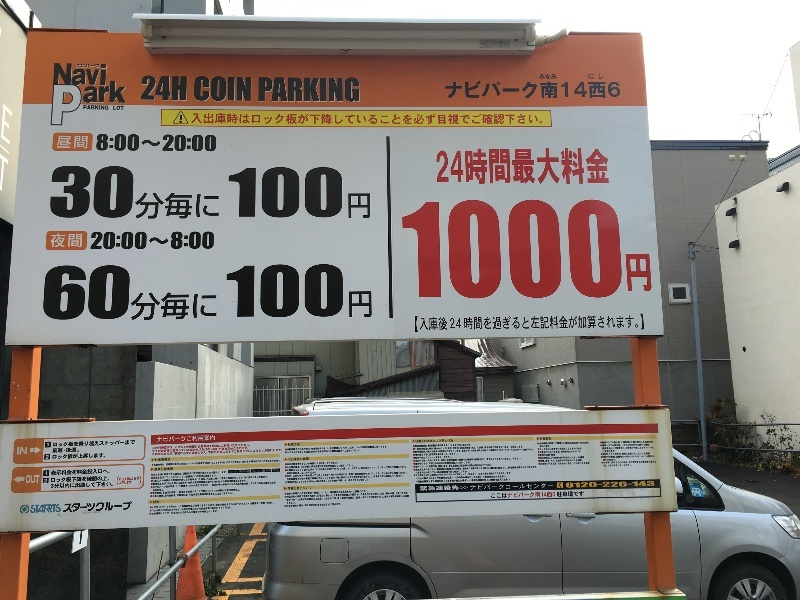text: (401, 199, 416, 301), (417, 199, 432, 301), (433, 199, 448, 301), (449, 199, 464, 301), (465, 199, 480, 301), (481, 199, 496, 301), (497, 199, 512, 301), (513, 199, 528, 301), (529, 199, 544, 301), (545, 199, 560, 301), (561, 199, 576, 301), (577, 199, 592, 301), (593, 199, 608, 301), (609, 199, 624, 301), (625, 199, 640, 301), (1, 102, 16, 193), (641, 199, 653, 301), (49, 262, 64, 325), (65, 262, 80, 325), (81, 262, 96, 325), (97, 262, 112, 325), (113, 262, 128, 325), (129, 262, 144, 325), (145, 262, 160, 325), (161, 262, 176, 325), (177, 262, 192, 325), (193, 262, 208, 325), (209, 262, 224, 325), (225, 262, 240, 325), (241, 262, 256, 325), (257, 262, 272, 325), (273, 262, 288, 325), (289, 262, 304, 325), (305, 262, 320, 325), (321, 262, 336, 325), (337, 262, 352, 325), (353, 262, 368, 325), (113, 80, 129, 130), (65, 166, 80, 219), (81, 166, 96, 219), (97, 166, 112, 219), (113, 166, 128, 219), (129, 166, 144, 219), (145, 166, 160, 219), (161, 166, 176, 219), (177, 166, 192, 219), (193, 166, 208, 219), (209, 166, 224, 219), (225, 166, 240, 219), (241, 166, 256, 219), (257, 166, 272, 219), (273, 166, 288, 219), (289, 166, 304, 219), (305, 166, 320, 219), (321, 166, 336, 219), (337, 166, 352, 219), (353, 166, 368, 219), (65, 80, 80, 130), (81, 80, 96, 130), (97, 80, 112, 130), (52, 166, 64, 219), (449, 146, 464, 186), (465, 146, 480, 186), (481, 146, 496, 186), (497, 146, 512, 186), (513, 146, 528, 186), (529, 146, 544, 186), (545, 146, 560, 186), (561, 146, 576, 186), (577, 146, 592, 186), (593, 146, 608, 186), (417, 443, 432, 483), (433, 443, 448, 483), (449, 443, 464, 483), (465, 443, 480, 483), (481, 443, 496, 483), (497, 443, 512, 483), (513, 443, 528, 483), (53, 80, 64, 130), (435, 146, 448, 186), (641, 441, 657, 467), (145, 75, 160, 102), (161, 75, 176, 102), (209, 76, 224, 103), (225, 76, 240, 103), (609, 441, 624, 467), (625, 441, 640, 467), (194, 76, 208, 103), (545, 442, 560, 466), (561, 442, 576, 466), (273, 78, 288, 102), (289, 78, 304, 102), (305, 78, 320, 102), (321, 78, 336, 102), (337, 78, 352, 102), (65, 64, 80, 87), (81, 64, 96, 87), (289, 461, 304, 484), (305, 461, 320, 484), (321, 461, 336, 484), (337, 461, 352, 484), (353, 461, 368, 484), (369, 461, 384, 484), (385, 461, 400, 484), (258, 78, 272, 102), (529, 443, 537, 483), (43, 262, 48, 325), (97, 133, 112, 153), (113, 133, 128, 153), (129, 133, 144, 153), (145, 133, 160, 153), (161, 133, 176, 153), (177, 133, 192, 153), (193, 133, 208, 153), (97, 231, 112, 251), (113, 231, 128, 251), (129, 231, 144, 251), (145, 231, 160, 251), (161, 231, 176, 251), (177, 231, 192, 251), (193, 231, 208, 251), (417, 313, 432, 333), (433, 313, 448, 333), (449, 313, 464, 333), (465, 313, 480, 333), (481, 313, 496, 333), (497, 313, 512, 333), (513, 313, 528, 333), (529, 313, 544, 333), (545, 313, 560, 333), (561, 313, 576, 333), (577, 313, 592, 333), (593, 313, 608, 333), (609, 313, 624, 333), (625, 313, 640, 333), (289, 488, 304, 508), (305, 488, 320, 508), (321, 488, 336, 508), (337, 488, 352, 508), (353, 488, 368, 508), (369, 488, 384, 508), (385, 488, 400, 508), (177, 75, 188, 102), (241, 76, 252, 103), (577, 442, 589, 466), (449, 81, 464, 100), (465, 81, 480, 100), (481, 81, 496, 100), (497, 81, 512, 100), (513, 81, 528, 100), (529, 81, 544, 100), (545, 81, 560, 100), (561, 81, 576, 100), (577, 81, 592, 100), (593, 81, 608, 100), (97, 64, 108, 87), (369, 262, 373, 325), (65, 233, 80, 249), (609, 81, 621, 100), (50, 233, 64, 249), (369, 166, 373, 219), (65, 136, 80, 150), (55, 64, 64, 87), (529, 113, 545, 125), (193, 113, 208, 125), (209, 113, 224, 125), (225, 113, 240, 125), (241, 113, 256, 125), (257, 113, 272, 125), (273, 113, 288, 125), (289, 113, 304, 125), (305, 113, 320, 125), (321, 113, 336, 125), (337, 113, 352, 125), (353, 113, 368, 125), (369, 113, 384, 125), (385, 113, 400, 125), (401, 113, 416, 125), (417, 113, 432, 125), (433, 113, 448, 125), (449, 113, 464, 125), (465, 113, 480, 125), (481, 113, 496, 125), (497, 113, 512, 125), (513, 113, 528, 125), (65, 501, 80, 513), (81, 501, 96, 513), (97, 501, 112, 513), (113, 501, 128, 513), (401, 488, 410, 508), (353, 78, 360, 102), (401, 461, 408, 484), (209, 133, 217, 153), (602, 441, 608, 467), (89, 231, 96, 251), (33, 504, 48, 513), (433, 483, 448, 492), (449, 483, 464, 492), (465, 483, 480, 492), (481, 483, 496, 492), (497, 483, 512, 492), (513, 483, 528, 492), (529, 483, 544, 492), (209, 231, 215, 251), (17, 447, 32, 455), (65, 475, 80, 483), (81, 475, 96, 483), (161, 435, 176, 443), (177, 435, 192, 443), (193, 435, 208, 443), (289, 446, 304, 454), (305, 446, 320, 454), (321, 446, 336, 454), (337, 446, 352, 454), (353, 446, 368, 454), (369, 446, 384, 454), (577, 481, 592, 489), (593, 481, 608, 489), (609, 481, 624, 489), (625, 481, 640, 489), (539, 442, 544, 466), (49, 504, 62, 513), (81, 136, 89, 150), (641, 481, 655, 489), (420, 483, 432, 492), (65, 440, 80, 447), (81, 440, 96, 447), (97, 440, 112, 447), (113, 440, 128, 447), (65, 469, 80, 476), (81, 469, 96, 476), (161, 502, 176, 509), (177, 502, 192, 509), (193, 502, 208, 509), (209, 502, 224, 509), (225, 502, 240, 509), (241, 502, 256, 509), (257, 502, 272, 509), (161, 482, 176, 489), (177, 482, 192, 489), (193, 482, 208, 489), (209, 482, 224, 489), (225, 482, 240, 489), (241, 482, 256, 489), (257, 482, 272, 489), (161, 476, 176, 483), (177, 476, 192, 483), (193, 476, 208, 483), (209, 476, 224, 483), (225, 476, 240, 483), (241, 476, 256, 483), (161, 449, 176, 456), (177, 449, 192, 456), (193, 449, 208, 456), (209, 449, 224, 456), (225, 449, 240, 456), (241, 449, 256, 456), (257, 449, 272, 456), (497, 491, 512, 498), (513, 491, 528, 498), (529, 491, 544, 498), (545, 491, 560, 498), (561, 491, 576, 498), (545, 73, 558, 81), (51, 475, 64, 483), (57, 136, 64, 150), (97, 469, 111, 476), (97, 475, 109, 483), (225, 489, 241, 495), (65, 453, 80, 459), (81, 453, 96, 459), (161, 489, 176, 495), (177, 489, 192, 495), (193, 489, 208, 495), (209, 489, 224, 495), (161, 471, 176, 477), (177, 471, 192, 477), (193, 471, 208, 477), (209, 471, 224, 477), (161, 460, 176, 466), (177, 460, 192, 466), (193, 460, 208, 466), (209, 460, 224, 466), (225, 460, 240, 466), (241, 460, 256, 466), (257, 460, 272, 466), (52, 469, 64, 476), (599, 72, 608, 81), (545, 483, 554, 492), (641, 313, 645, 333), (566, 481, 576, 489), (257, 476, 268, 483), (81, 65, 96, 70), (161, 444, 176, 449), (177, 444, 192, 449), (193, 444, 208, 449), (209, 444, 224, 449), (225, 444, 240, 449), (161, 507, 176, 512), (177, 507, 192, 512), (193, 507, 208, 512), (209, 507, 224, 512), (161, 493, 176, 498), (177, 493, 192, 498), (193, 493, 208, 498), (209, 493, 224, 498), (161, 480, 176, 485), (177, 480, 192, 485), (193, 480, 208, 485), (209, 480, 224, 485), (225, 480, 240, 485), (54, 440, 64, 447), (273, 449, 283, 456), (53, 453, 64, 459), (289, 443, 302, 448), (33, 475, 40, 484), (129, 501, 134, 513), (161, 511, 176, 515), (177, 511, 192, 515), (193, 511, 208, 515), (161, 475, 176, 479), (177, 475, 192, 479), (193, 475, 208, 479), (289, 486, 304, 490), (289, 457, 304, 461), (417, 439, 432, 443), (433, 439, 448, 443), (445, 81, 448, 100), (209, 435, 216, 443), (152, 502, 160, 509), (152, 449, 160, 456), (385, 446, 392, 454), (26, 475, 32, 484), (97, 453, 106, 459), (142, 75, 144, 102), (241, 444, 251, 449), (153, 482, 160, 489), (153, 476, 160, 483), (577, 491, 584, 498), (81, 233, 84, 249), (152, 489, 160, 495), (161, 467, 173, 471), (273, 460, 281, 466), (129, 440, 135, 447), (153, 471, 160, 477), (609, 146, 610, 186), (152, 444, 160, 449), (152, 507, 160, 512), (225, 493, 233, 498), (161, 458, 171, 462), (415, 443, 416, 483), (209, 511, 218, 515), (154, 460, 160, 466), (225, 507, 232, 512), (153, 493, 160, 498), (153, 480, 160, 485), (491, 491, 496, 498), (540, 73, 544, 81), (588, 73, 592, 81), (152, 511, 160, 515), (209, 475, 217, 479), (241, 480, 247, 485), (153, 475, 160, 479), (157, 435, 160, 443), (154, 467, 160, 471), (305, 486, 311, 490), (287, 461, 288, 484), (153, 501, 160, 504), (153, 489, 160, 492), (273, 482, 276, 489), (76, 65, 80, 70), (97, 65, 101, 70), (155, 458, 160, 462), (287, 488, 288, 508), (45, 470, 48, 476), (545, 438, 551, 441), (593, 73, 595, 81), (305, 457, 309, 461), (449, 439, 453, 443), (273, 502, 275, 509), (161, 489, 165, 492), (225, 471, 227, 477), (540, 438, 544, 441), (31, 504, 32, 513), (46, 455, 48, 459), (287, 446, 288, 454), (47, 443, 48, 447)
